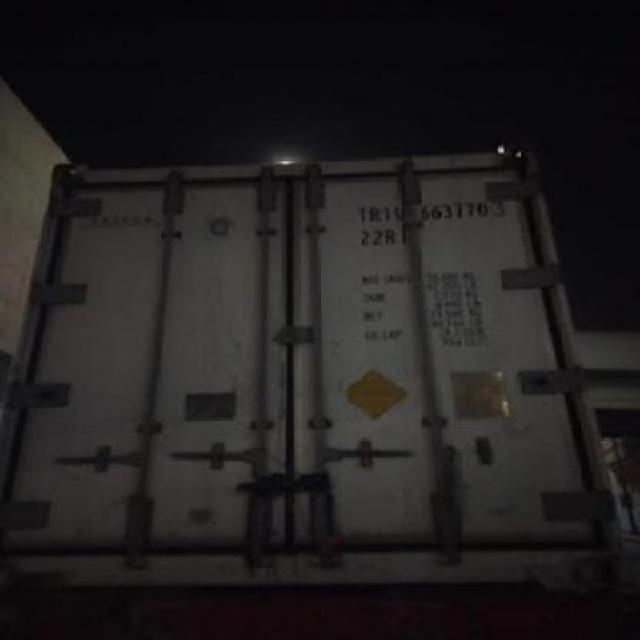ISO: (354, 228, 422, 250)
container_number: (348, 200, 511, 224)
